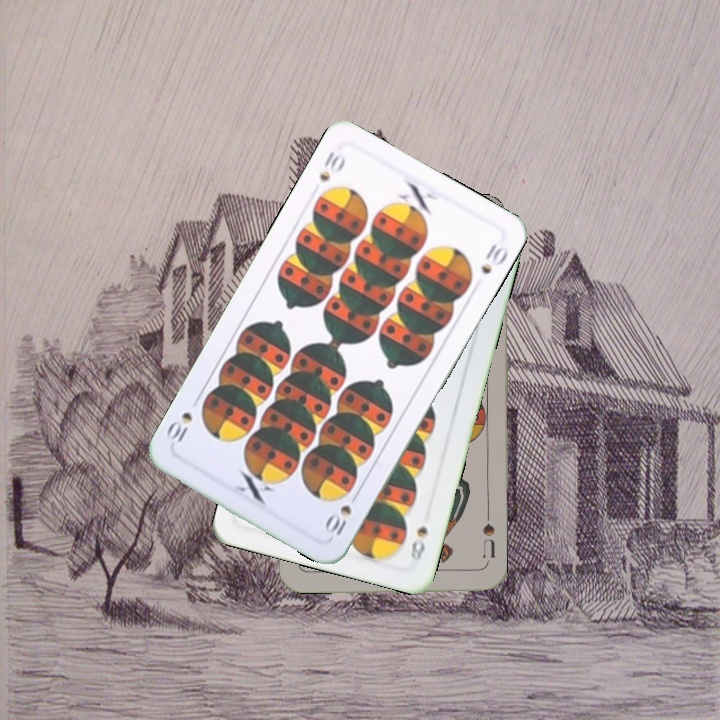S10: (321, 500, 355, 541), (315, 146, 348, 184)
S8: (406, 522, 431, 563)
SU: (478, 519, 498, 568)
